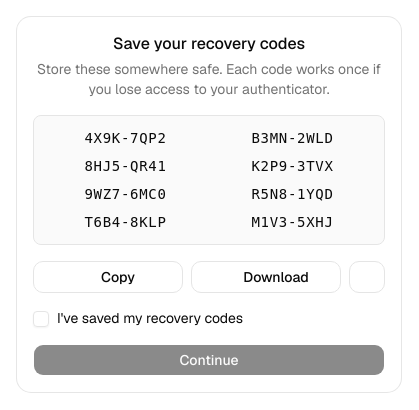
it: RecoveryCodes › regenerates a fresh set of codes
The image size is (419, 410).
Click the checkbox at (41, 319), box [33,311,49,327]
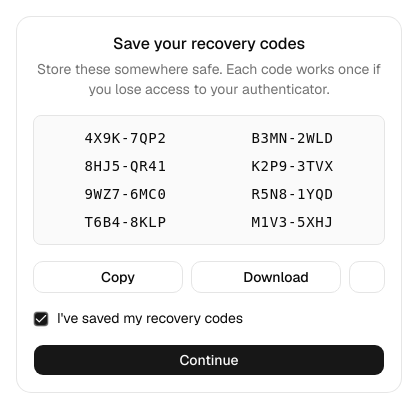
Click the button named "regenerate codes" at (367, 277), box [349,261,385,293]
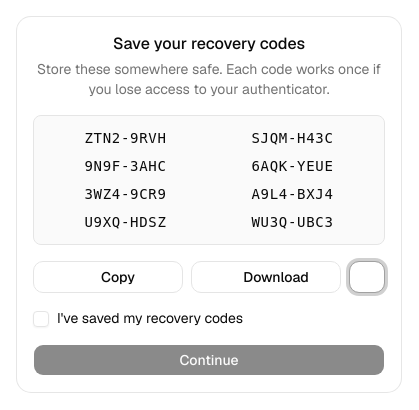
Check: the list item "4X9K-7QP2" is gone
Check: the button "Continue" is disabled, box [33,344,385,376]
